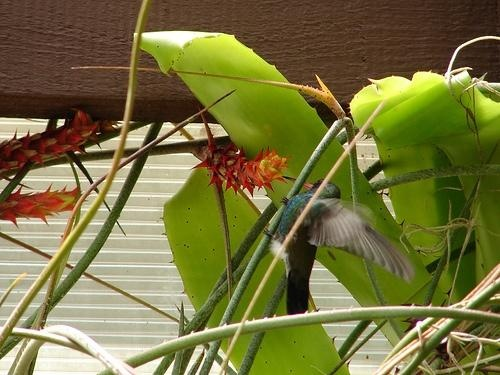bird: (262, 174, 415, 320)
